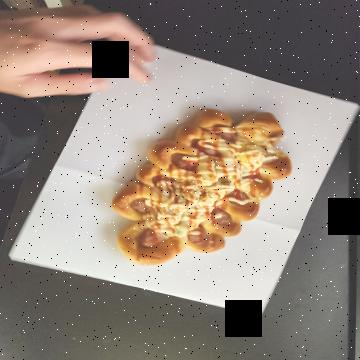pizza_bread: (110, 65, 268, 243)
